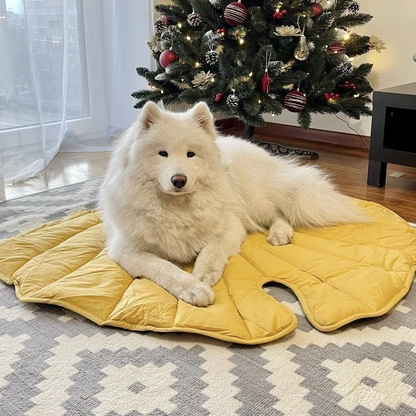samoyed: (92, 95, 375, 308)
